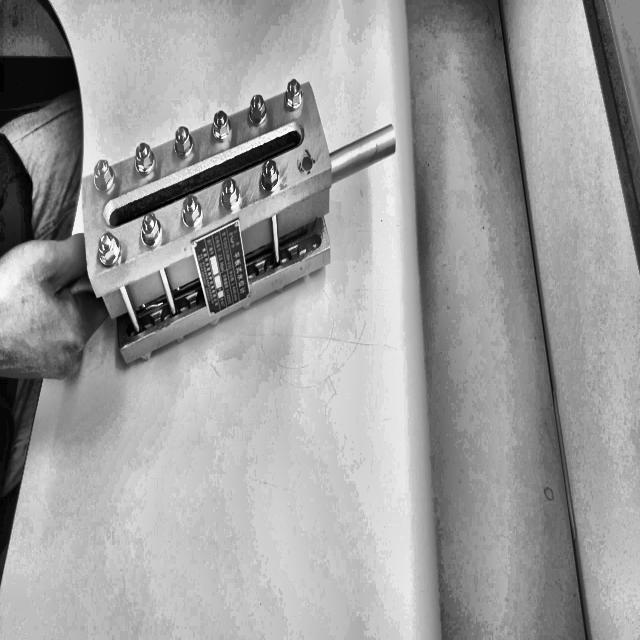ShuiWeiQi_11: (77, 56, 417, 351)
